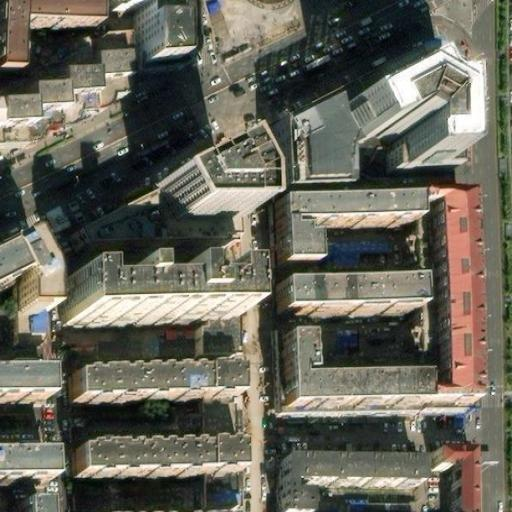building: (281, 342, 419, 419), (430, 235, 478, 429), (333, 66, 427, 163), (280, 206, 412, 275), (78, 279, 245, 326), (85, 183, 176, 262), (279, 465, 420, 512), (73, 433, 235, 473), (76, 362, 238, 401), (0, 0, 98, 64), (279, 101, 346, 190), (155, 155, 240, 223), (285, 288, 421, 322), (134, 0, 189, 73), (0, 359, 62, 397), (432, 460, 469, 512), (0, 443, 49, 481), (34, 35, 89, 68), (197, 476, 240, 510), (35, 94, 73, 124), (69, 74, 105, 102), (101, 53, 137, 80), (17, 496, 51, 512), (362, 499, 402, 512)
